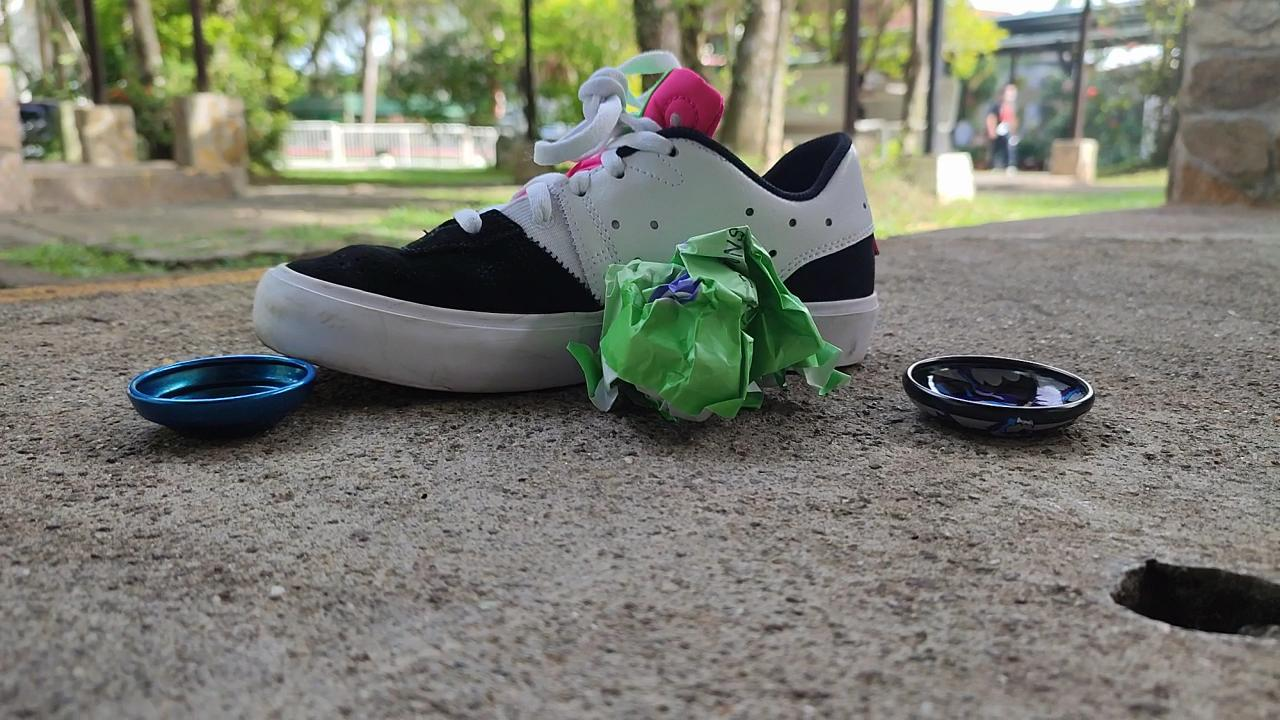Paper: (552, 212, 859, 432)
